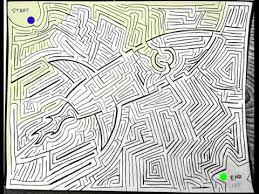maze: (6, 1, 255, 192)
